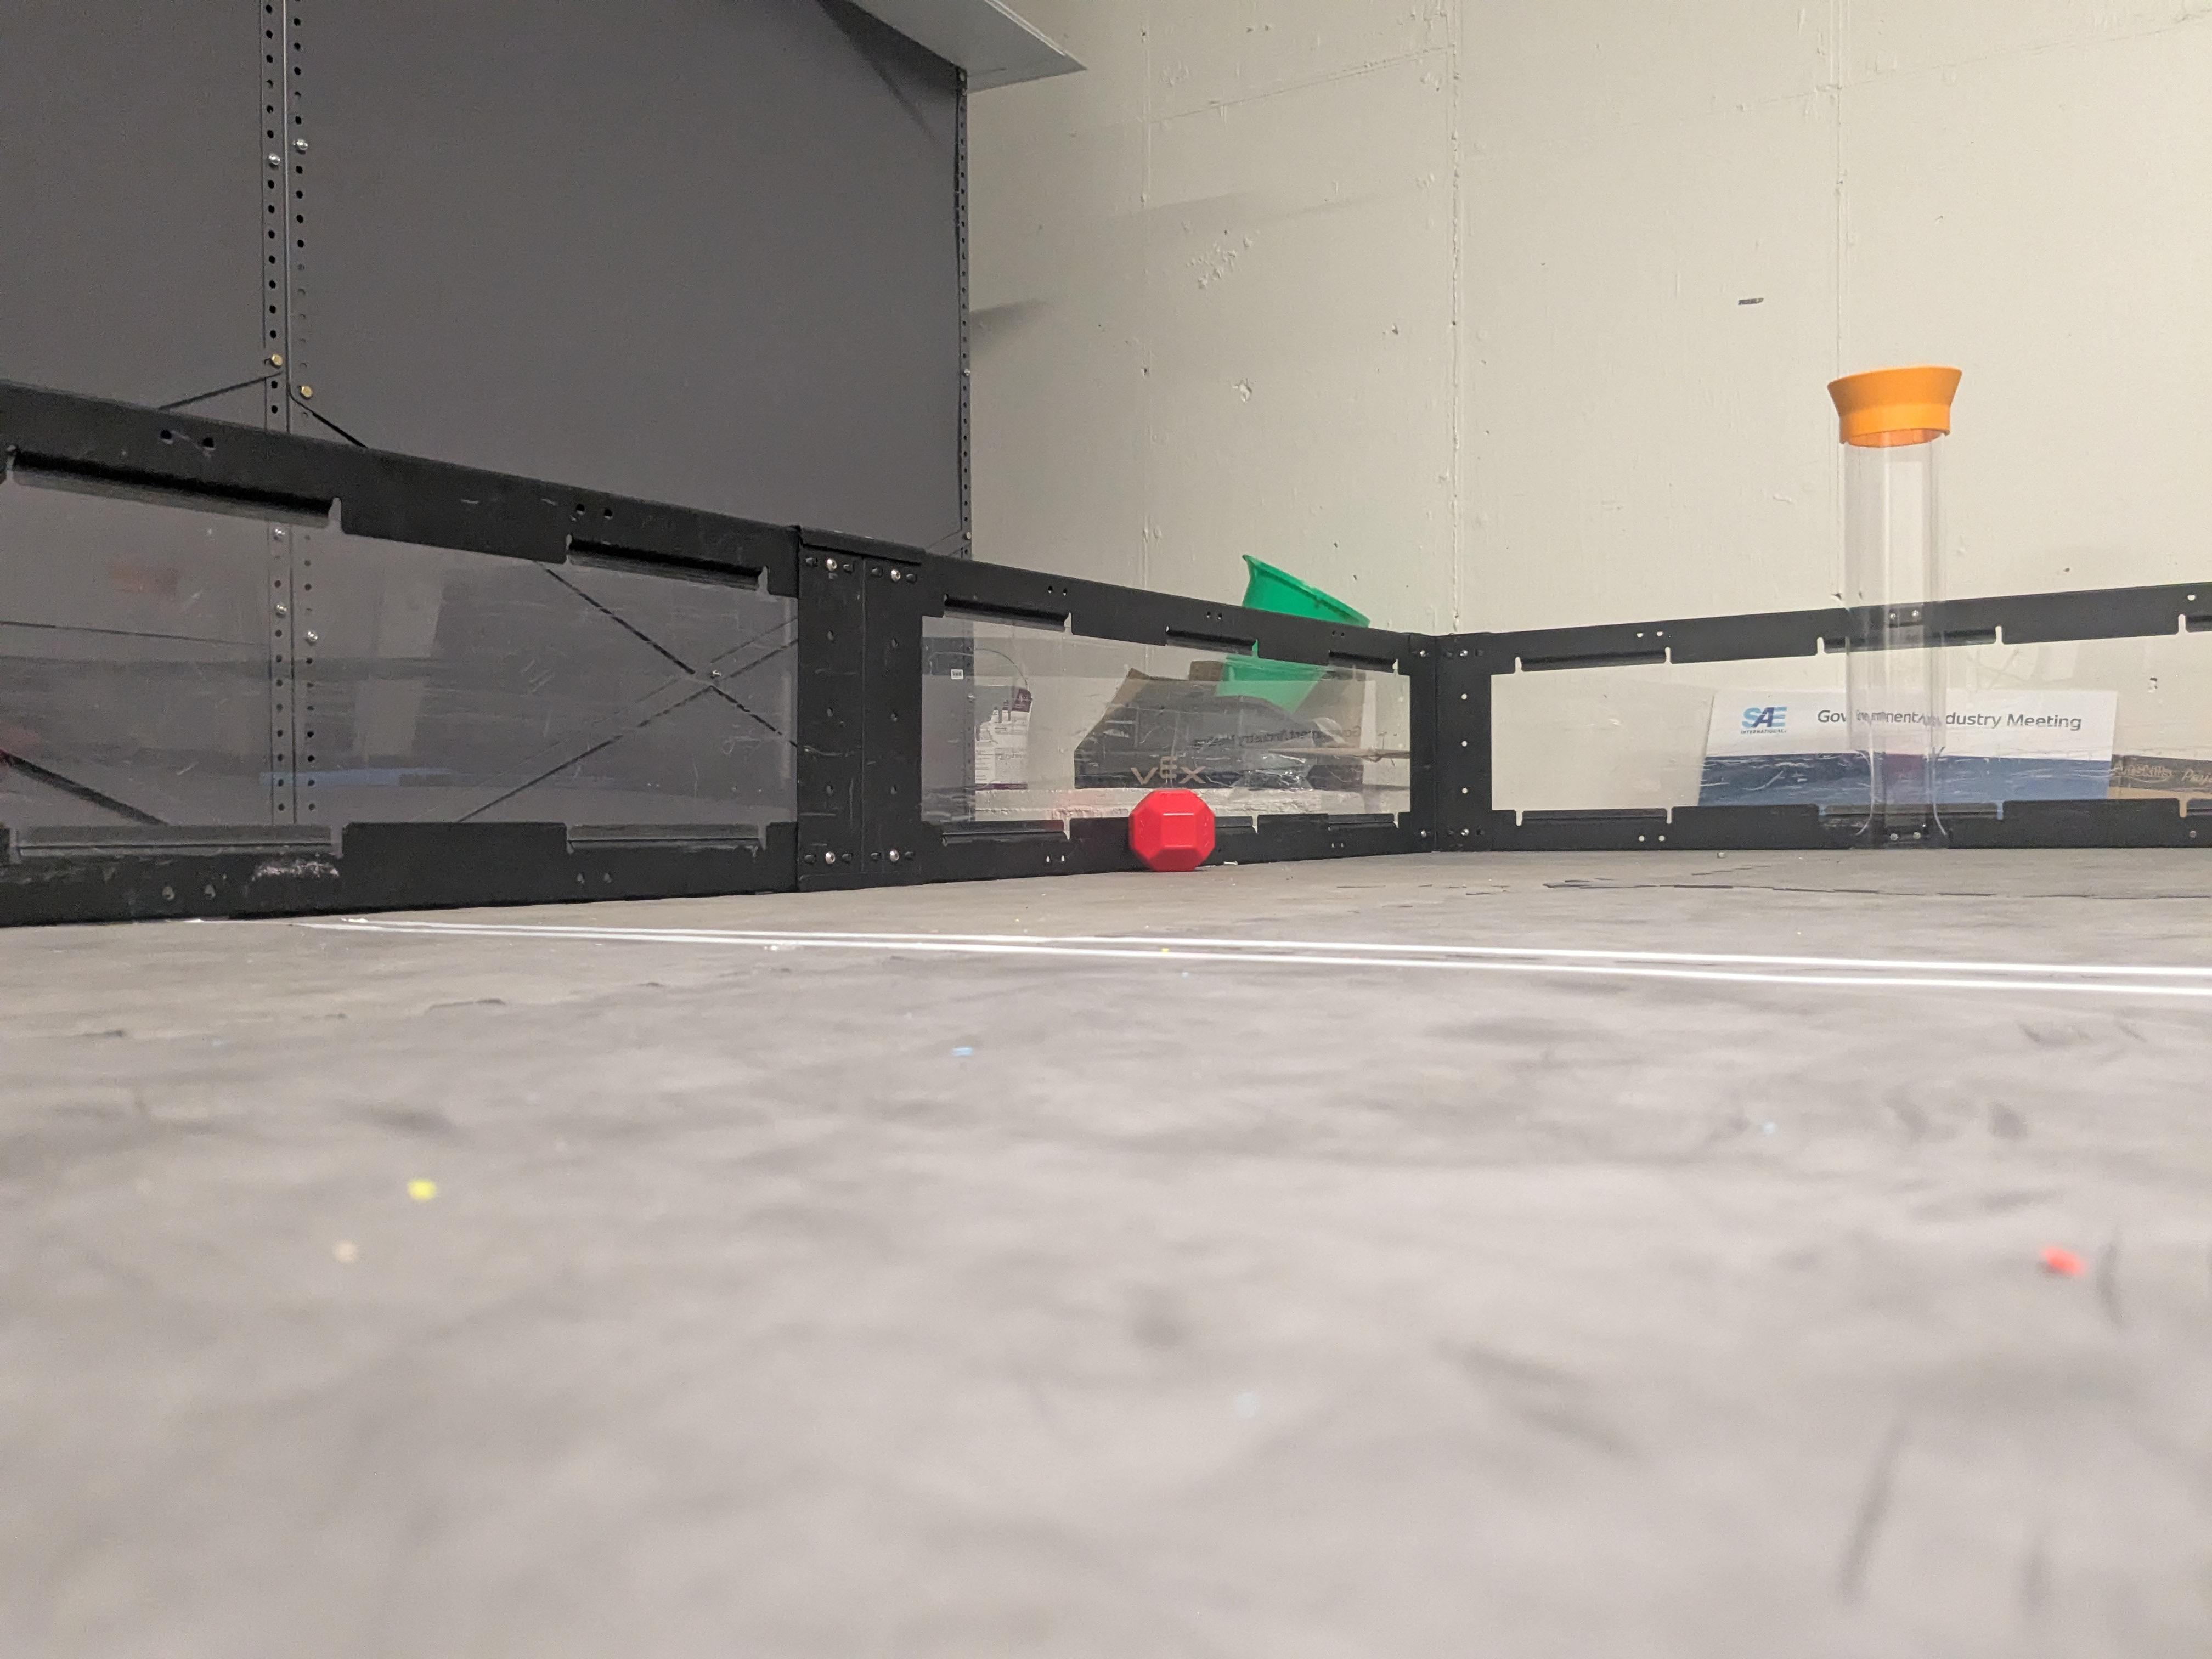Vex-Pieces-RED: (1129, 789, 1216, 871)
